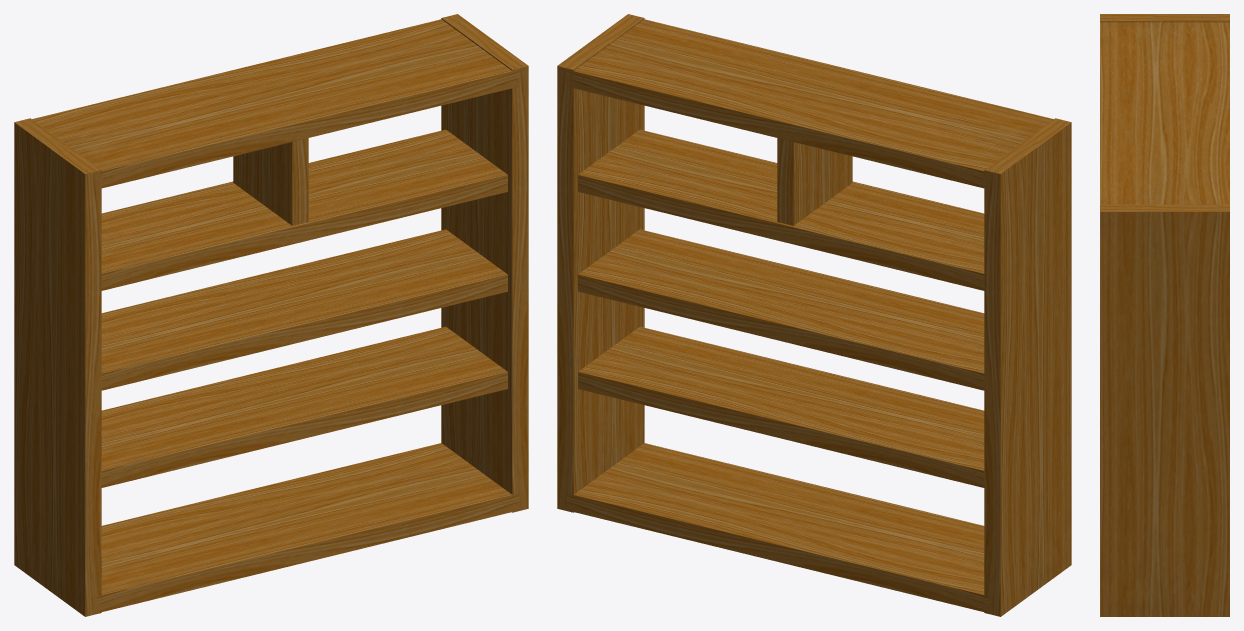
Rendered from Bookshelf.fbx.
The picture shows the model from 3 angles, left to right: view 1: azimuth 30°, elevation 25°; view 2: azimuth 150°, elevation 25°; view 3: azimuth 270°, elevation 25°; orthographic projection. The views are drawn at different scales.
Visible parts, largest first — view 1: Bookshelf; view 2: Bookshelf; view 3: Bookshelf.
Part boxes in pixels (<box>): Bookshelf: <box>14,14,528,616</box>; Bookshelf: <box>557,14,1071,616</box>; Bookshelf: <box>1100,14,1229,616</box>.
Bounding box in the file's own units: 13.06 × 12.46 × 3.62.
